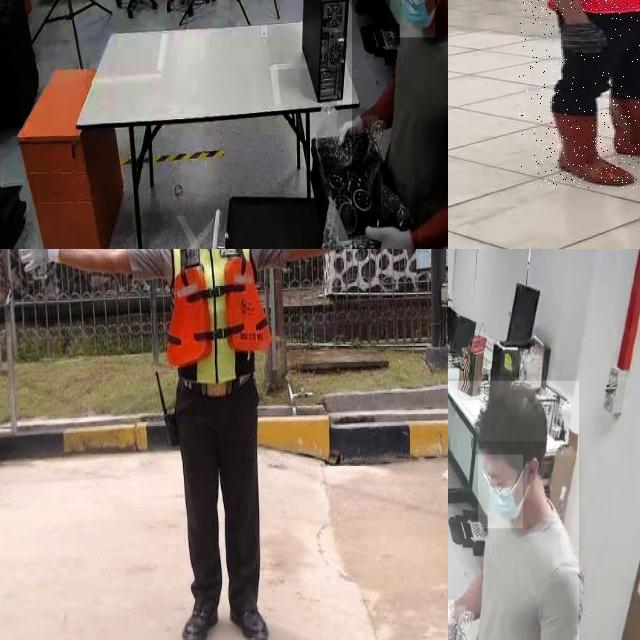boots: (538, 106, 638, 188), (611, 95, 640, 163), (180, 595, 223, 640), (230, 602, 271, 640)
face_mask: (478, 454, 523, 528), (390, 0, 435, 37)
hand_glove: (361, 217, 418, 249), (336, 108, 366, 152)
head_nohelmet: (477, 376, 547, 442)
person: (0, 249, 438, 640), (448, 380, 579, 640), (352, 0, 448, 249), (519, 0, 640, 188)
vest: (166, 249, 271, 388)
